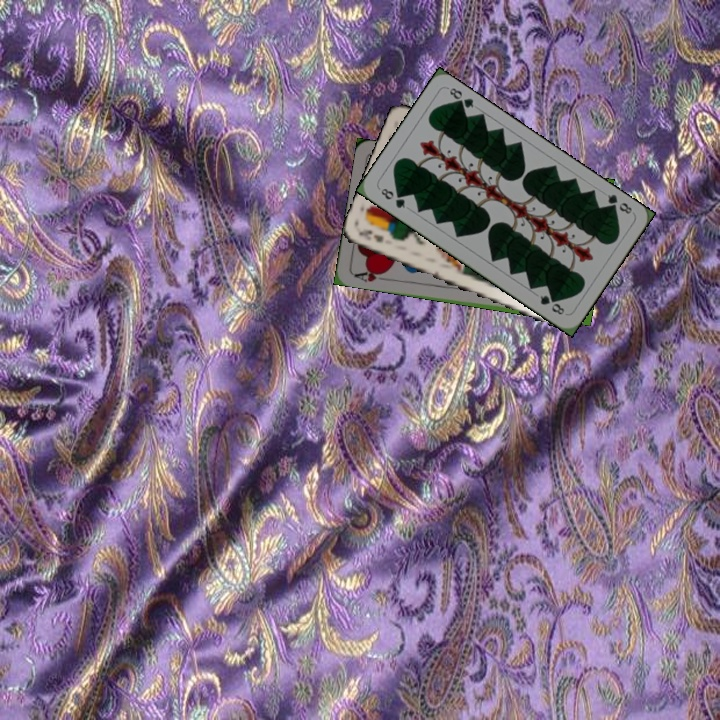EK: (356, 226, 387, 245)
G8: (377, 184, 408, 211), (603, 190, 635, 216)
HA: (350, 265, 390, 285)
